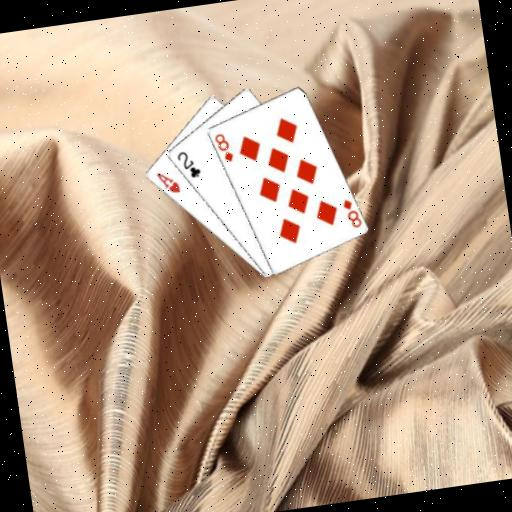2C: (173, 147, 203, 182)
8D: (211, 129, 236, 166), (339, 194, 364, 231)
AH: (152, 167, 182, 198)
